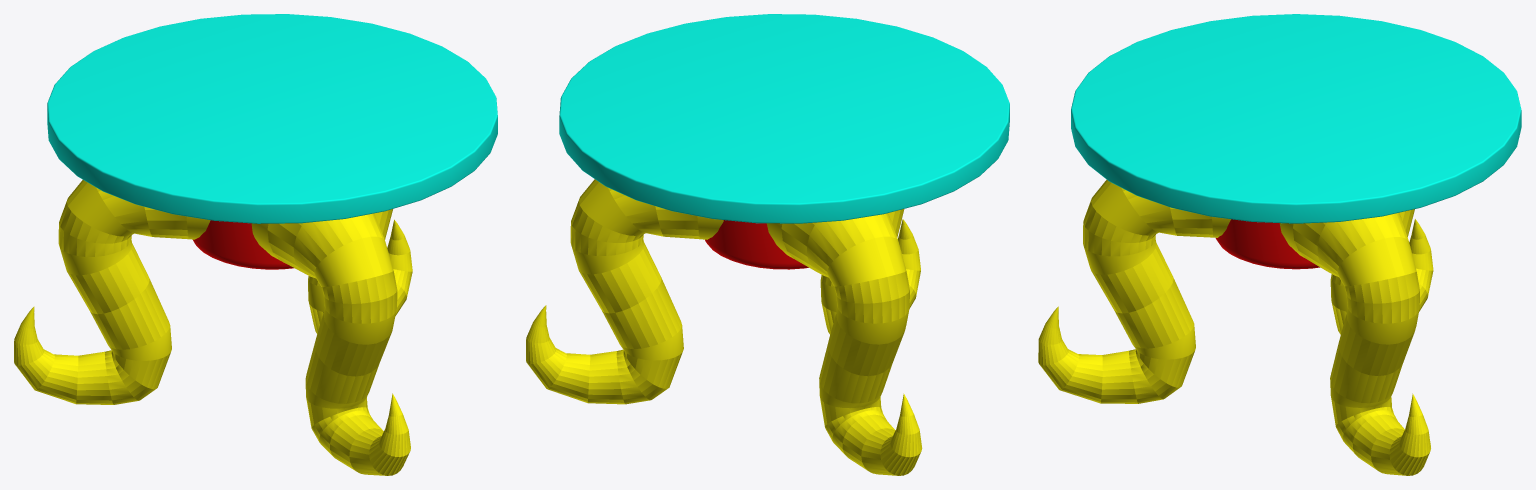
The model's file is umgebung_telefontisch_low.FBX.
3 renders of one model, left to right at view 1: azimuth 30°, elevation 25°; view 2: azimuth 150°, elevation 25°; view 3: azimuth 270°, elevation 25°, orthographic.
Parts seen in each view (by area): view 1: o_tischplatte_low, i_tentakel_low (×2), o_tentakel_low, o_sockel_low; view 2: o_tischplatte_low, i_tentakel_low (×2), o_tentakel_low, o_sockel_low; view 3: o_tischplatte_low, i_tentakel_low (×2), o_sockel_low, o_tentakel_low.
Part boxes in pixels (<box>): o_tischplatte_low: <box>47,14,497,223</box>; i_tentakel_low (×2): <box>251,209,412,475</box>; o_tentakel_low: <box>14,180,210,404</box>; o_sockel_low: <box>193,220,293,269</box>; o_tischplatte_low: <box>559,14,1009,223</box>; i_tentakel_low (×2): <box>526,179,920,404</box>; o_tentakel_low: <box>766,213,922,475</box>; o_sockel_low: <box>705,220,808,269</box>; o_tischplatte_low: <box>1071,14,1521,223</box>; i_tentakel_low (×2): <box>1038,179,1430,475</box>; o_sockel_low: <box>1215,219,1319,269</box>; o_tentakel_low: <box>1330,209,1433,334</box>.
Size of the model in its own units: 210 by 150 by 224.
